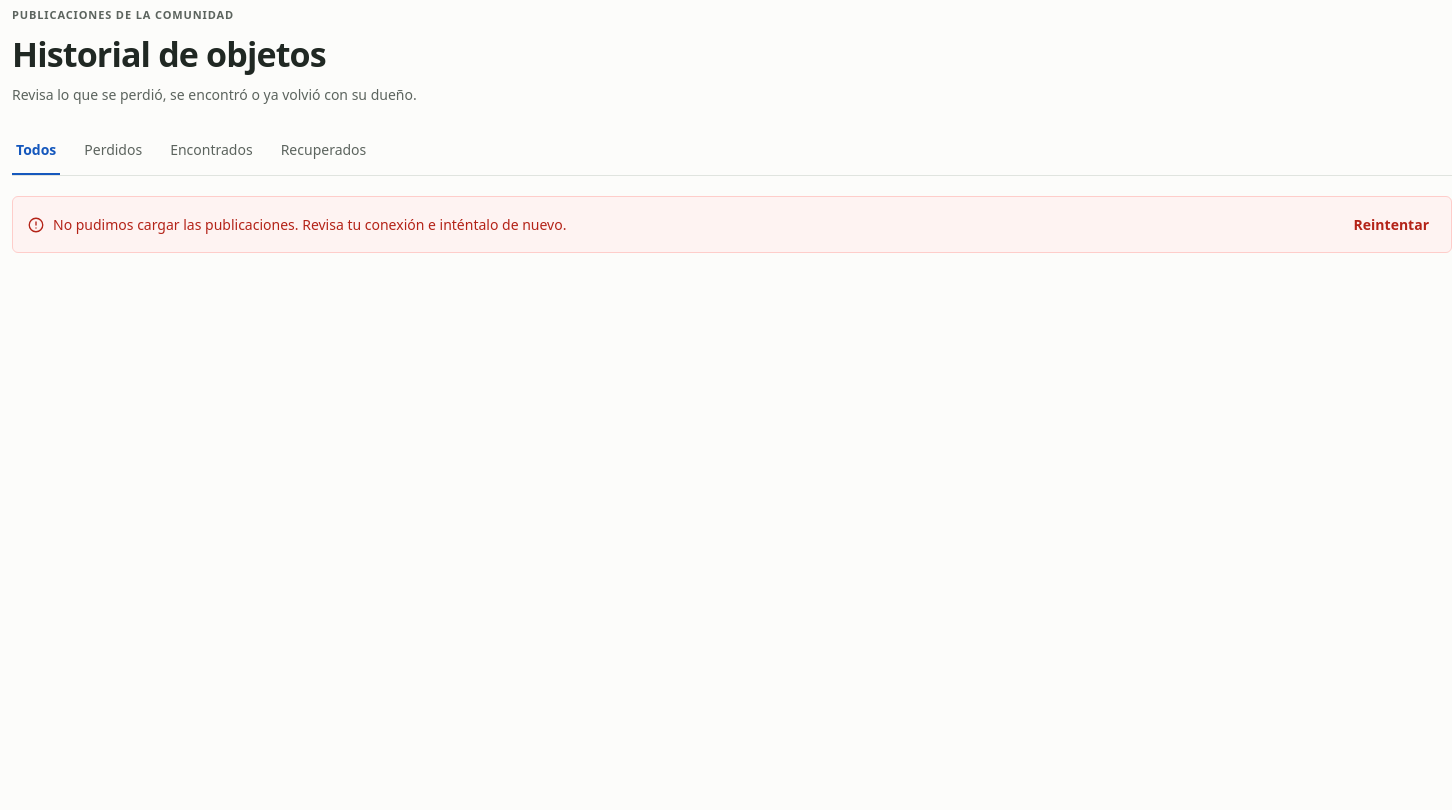
Test: distingue una falla de conexión de un historial vacío y permite reintentar
This screenshot has width=1452, height=810.
Expected: the message is shown, 12,196 -> 1451,253
Click the button "Reintentar".
click(1391, 225)  # box 1346,209 -> 1437,240
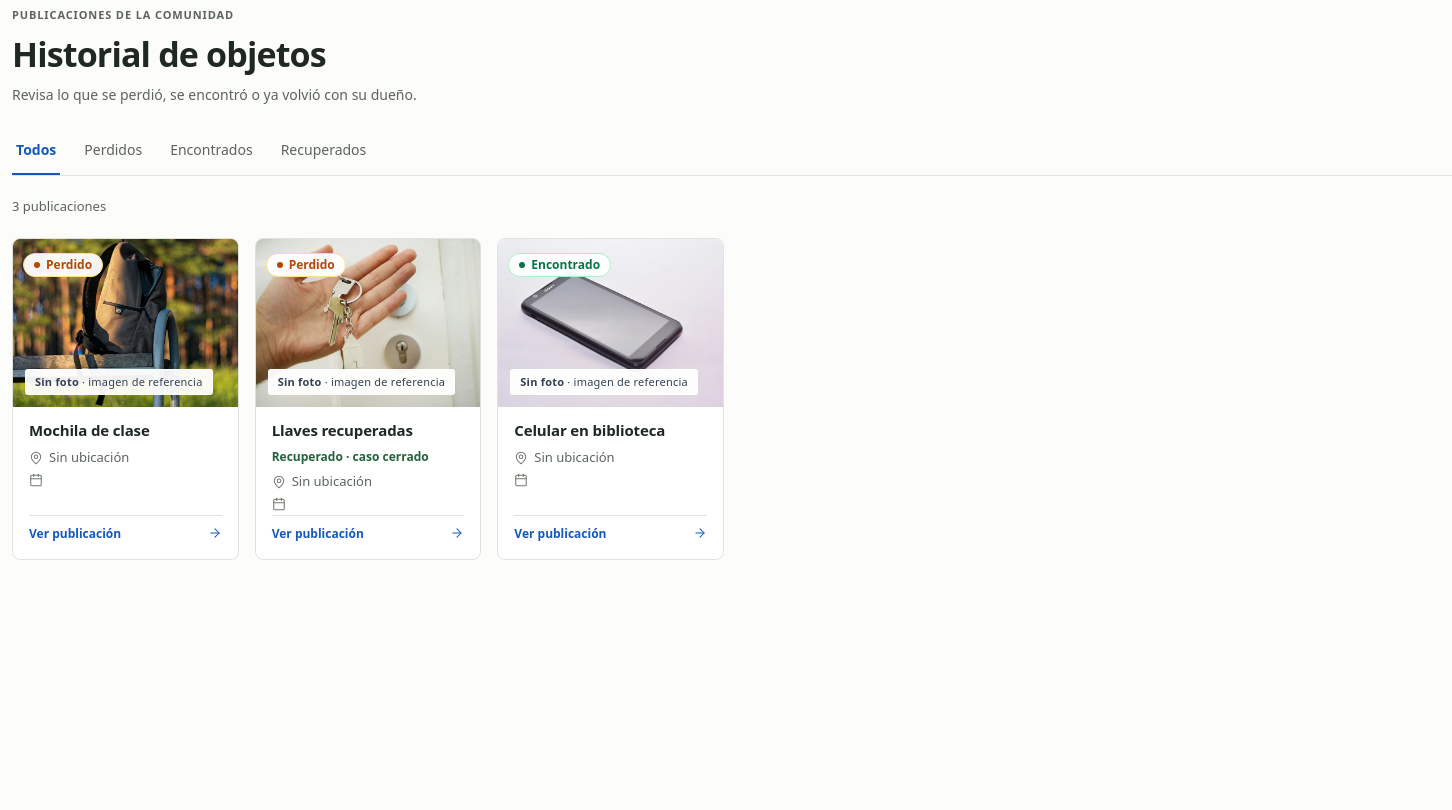
Now the heading "Mochila de clase" is shown, box 29,420 -> 150,440
